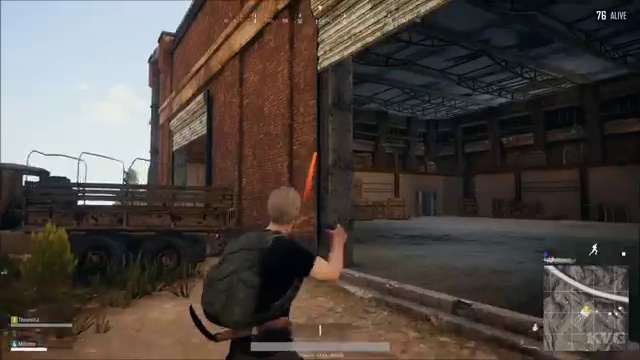Player: (167, 186, 362, 321)
